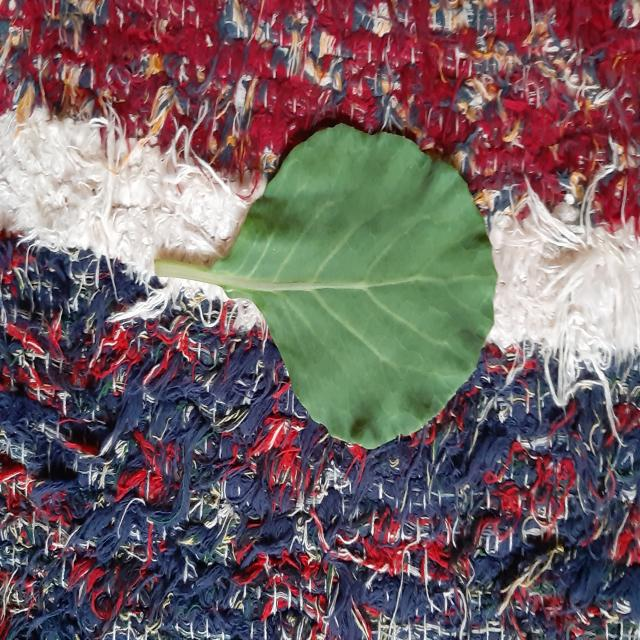Kohlrabi: (156, 124, 496, 447)
